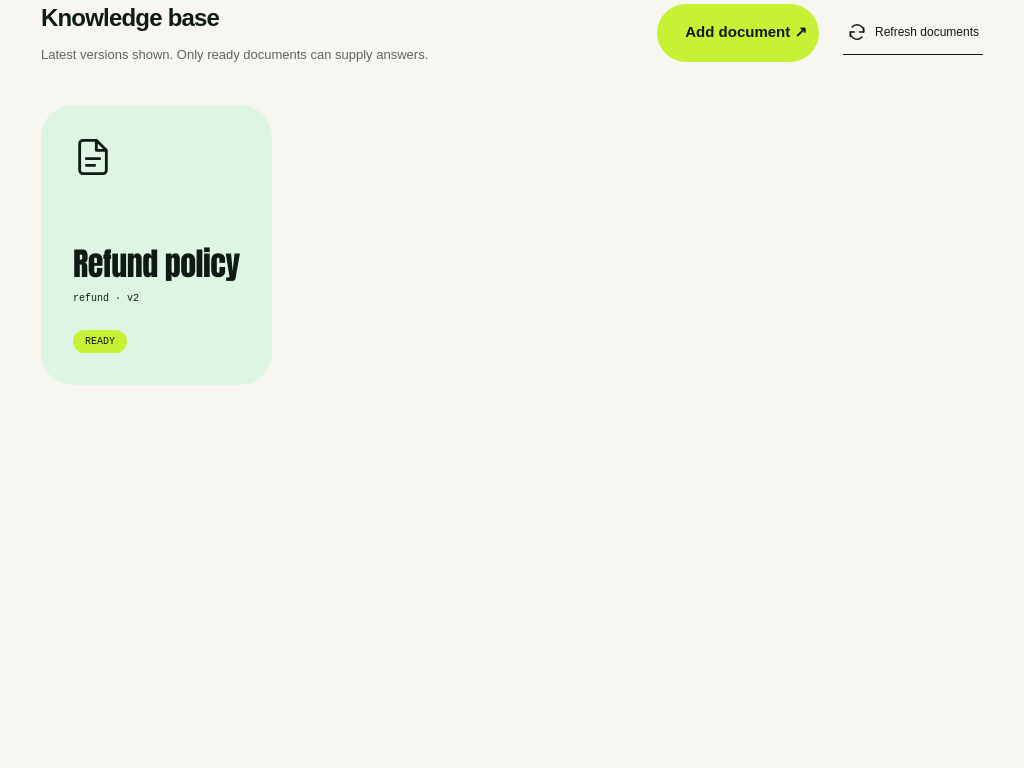
Test: document-reader failure offers refresh and renders the retried content
What coordinates should you click on to do the following:
click the button "Refund policy refund · v2 ready"
I would click on:
 (156, 245)
Its box is left=41, top=105, right=272, bottom=385.
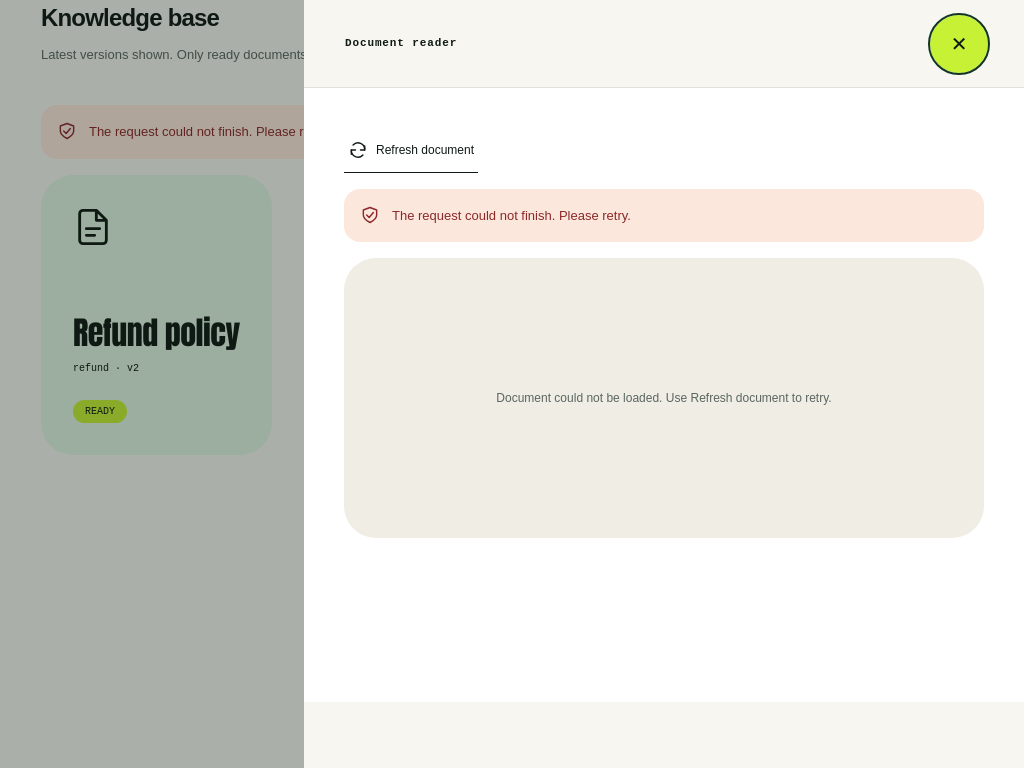
Expected: the text "Document could not be loaded. Use Refresh document to retry." is shown, left=344, top=258, right=984, bottom=538
What coordinates should you click on to do the following:
click the button "Refresh document"
I would click on:
 (411, 150)
Its box is left=344, top=128, right=478, bottom=173.
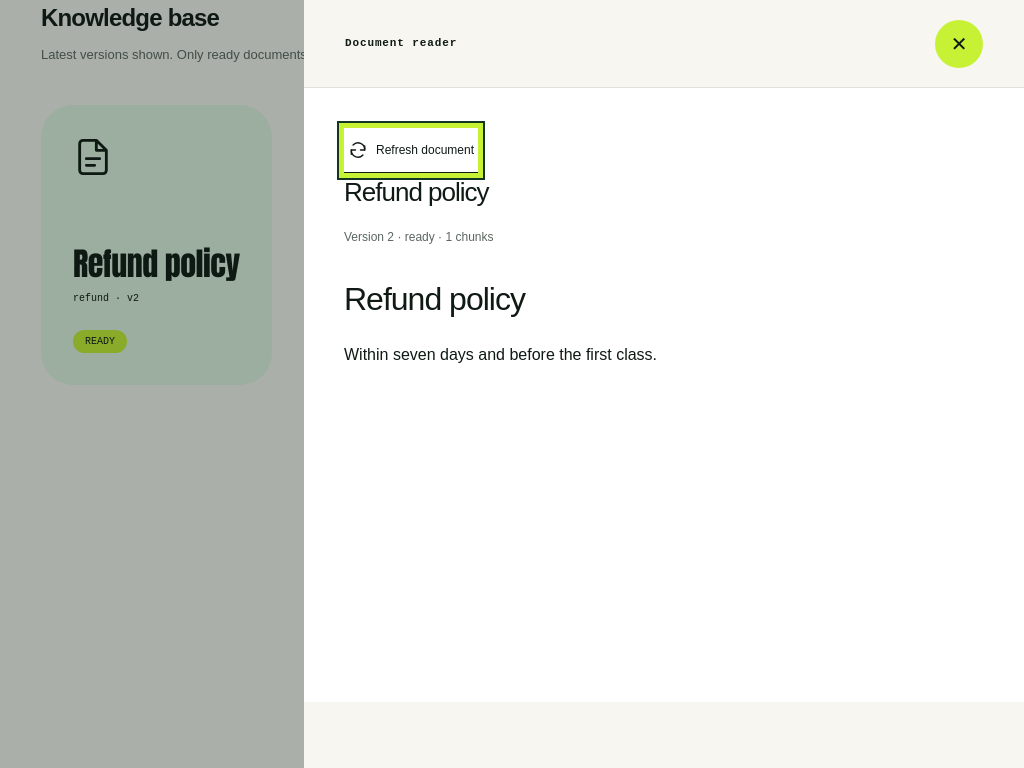
Expected: the text "Within seven days and before the first class." is shown, left=344, top=346, right=657, bottom=363
